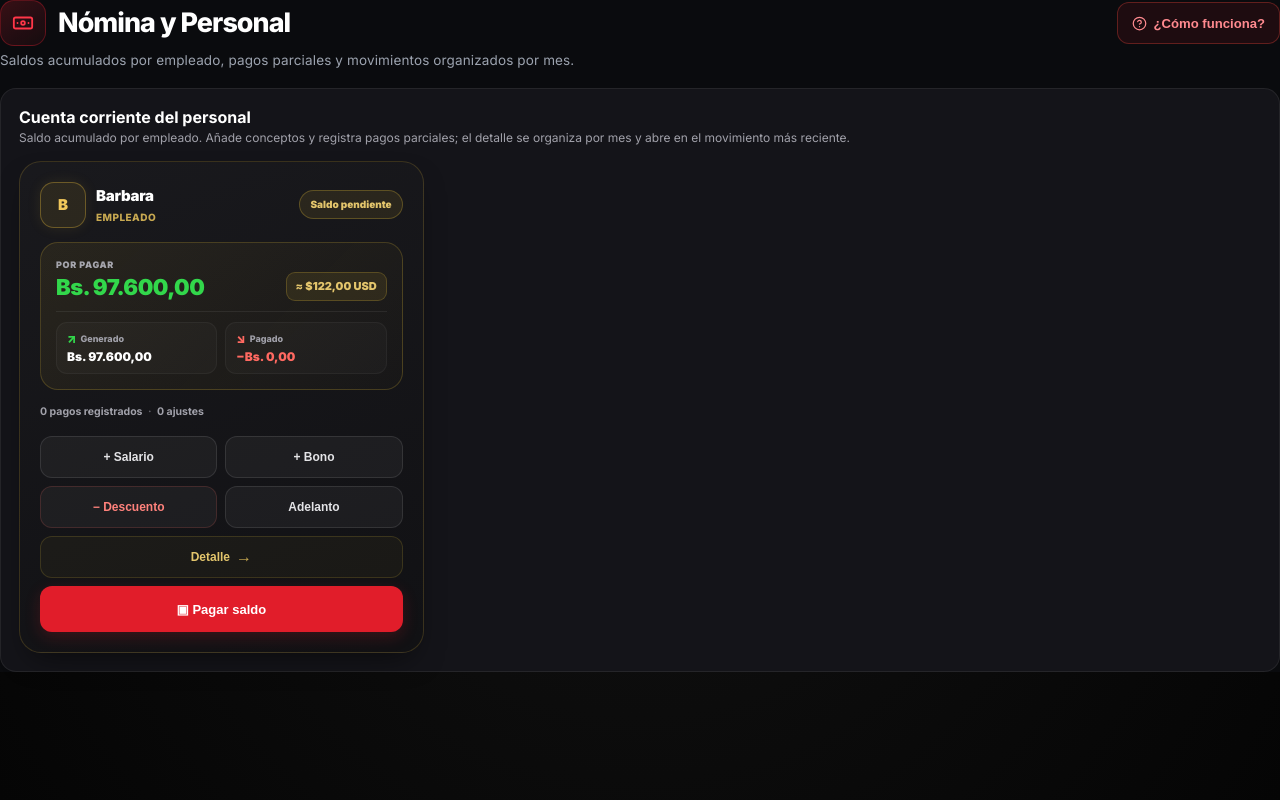
Test: Historial de nómina › muestra las acciones en la tarjeta y abre el detalle en el mes del movimiento más reciente
The width and height of the screenshot is (1280, 800).
Check: the text "Barbara" is shown, box top-left (96, 185), bottom-right (156, 208)
Check: the button "+ Salario" is shown, box top-left (40, 436), bottom-right (217, 478)
Click the button "Detalle →".
click(221, 557)  # box top-left (40, 536), bottom-right (403, 578)
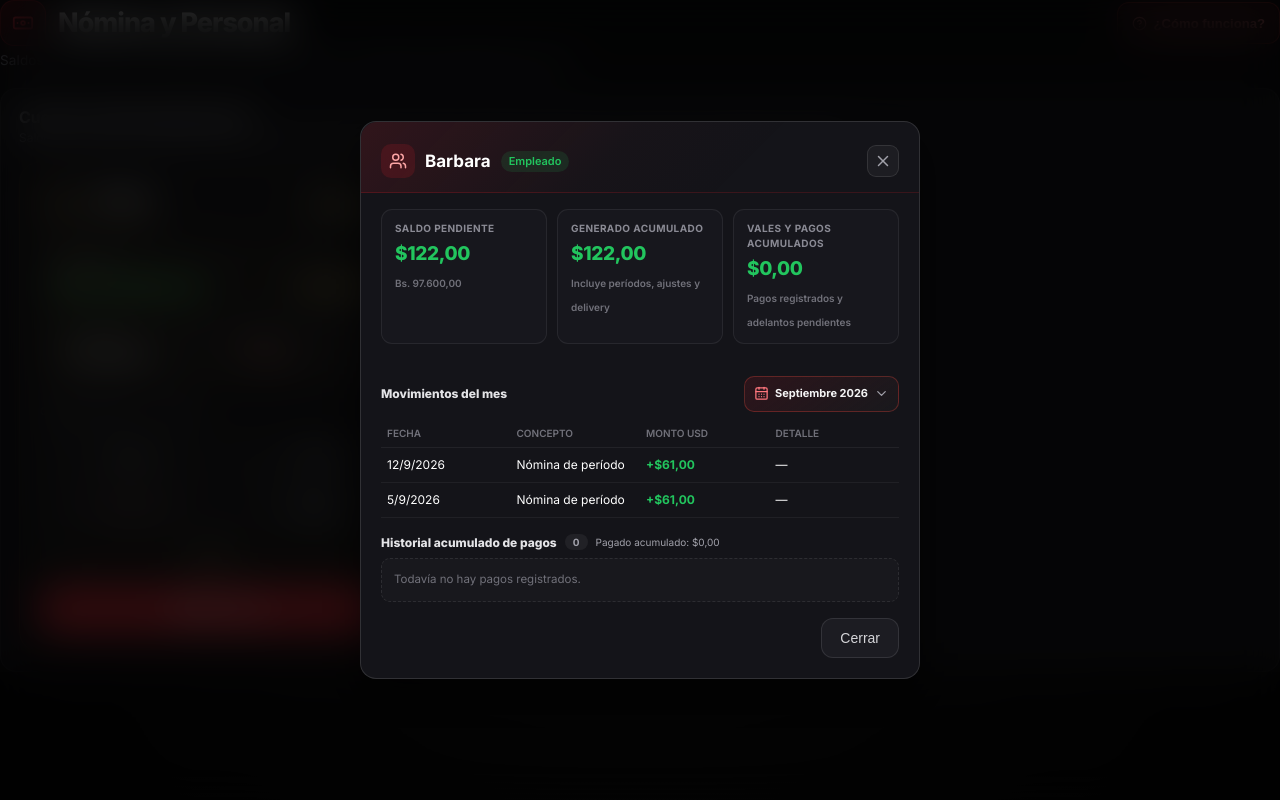
Check: the button with aria-label "Mes seleccionado: Septiembre 2026" is shown, box top-left (744, 376), bottom-right (899, 412)
Check: the text "Nómina de período" is shown 2 times, box top-left (510, 447), bottom-right (640, 482); top-left (510, 482), bottom-right (640, 517)
